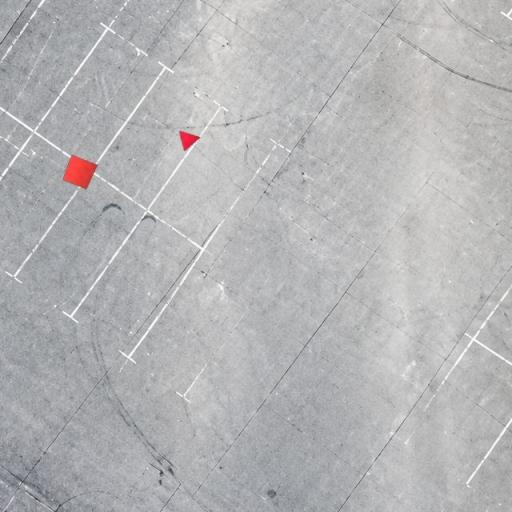RED_SQUARE: (62, 154, 98, 190)
